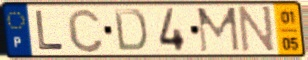4: (157, 7, 187, 54)
C: (65, 6, 106, 55)
D: (112, 7, 149, 53)
L: (34, 8, 66, 52)
M: (195, 5, 242, 54)
N: (237, 5, 276, 55)
